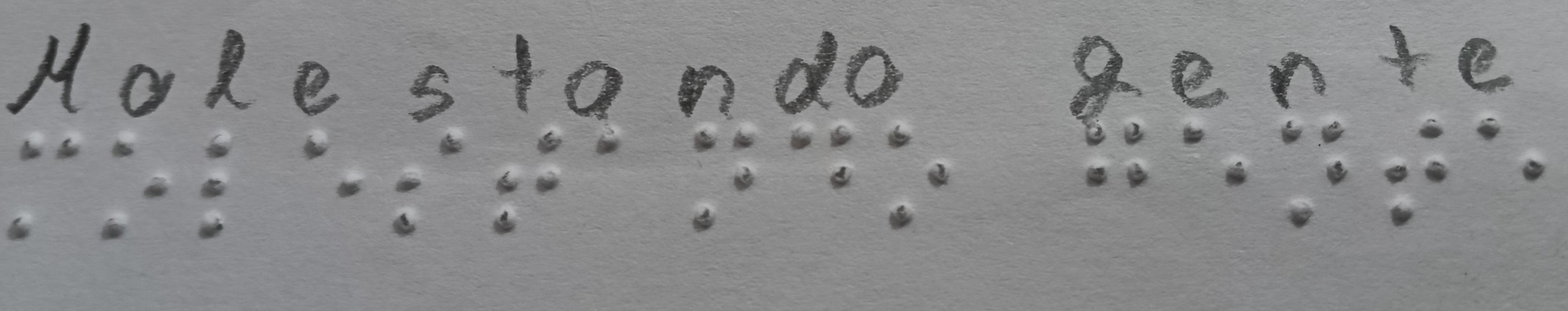a: (566, 118, 638, 171)
d: (771, 116, 864, 192)
e: (1459, 103, 1562, 196), (1173, 116, 1260, 204), (283, 126, 368, 215)
g: (1068, 114, 1155, 211)
l: (182, 122, 244, 250)
m: (8, 126, 87, 248)
n: (651, 120, 775, 233), (1275, 107, 1363, 231)
o: (872, 114, 954, 231), (97, 126, 178, 244)
s: (382, 128, 475, 240)
t: (1368, 101, 1454, 233), (479, 122, 566, 242)
